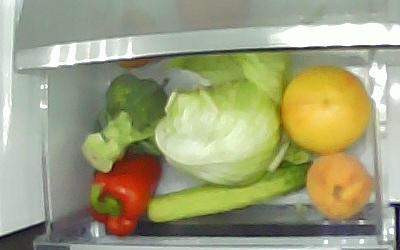broccoli: (83, 74, 171, 172), (90, 154, 159, 236)
cucumber: (147, 162, 315, 223)
grapefruit: (279, 68, 370, 154)
lettuce: (155, 82, 288, 185)
peach: (308, 155, 371, 221)
